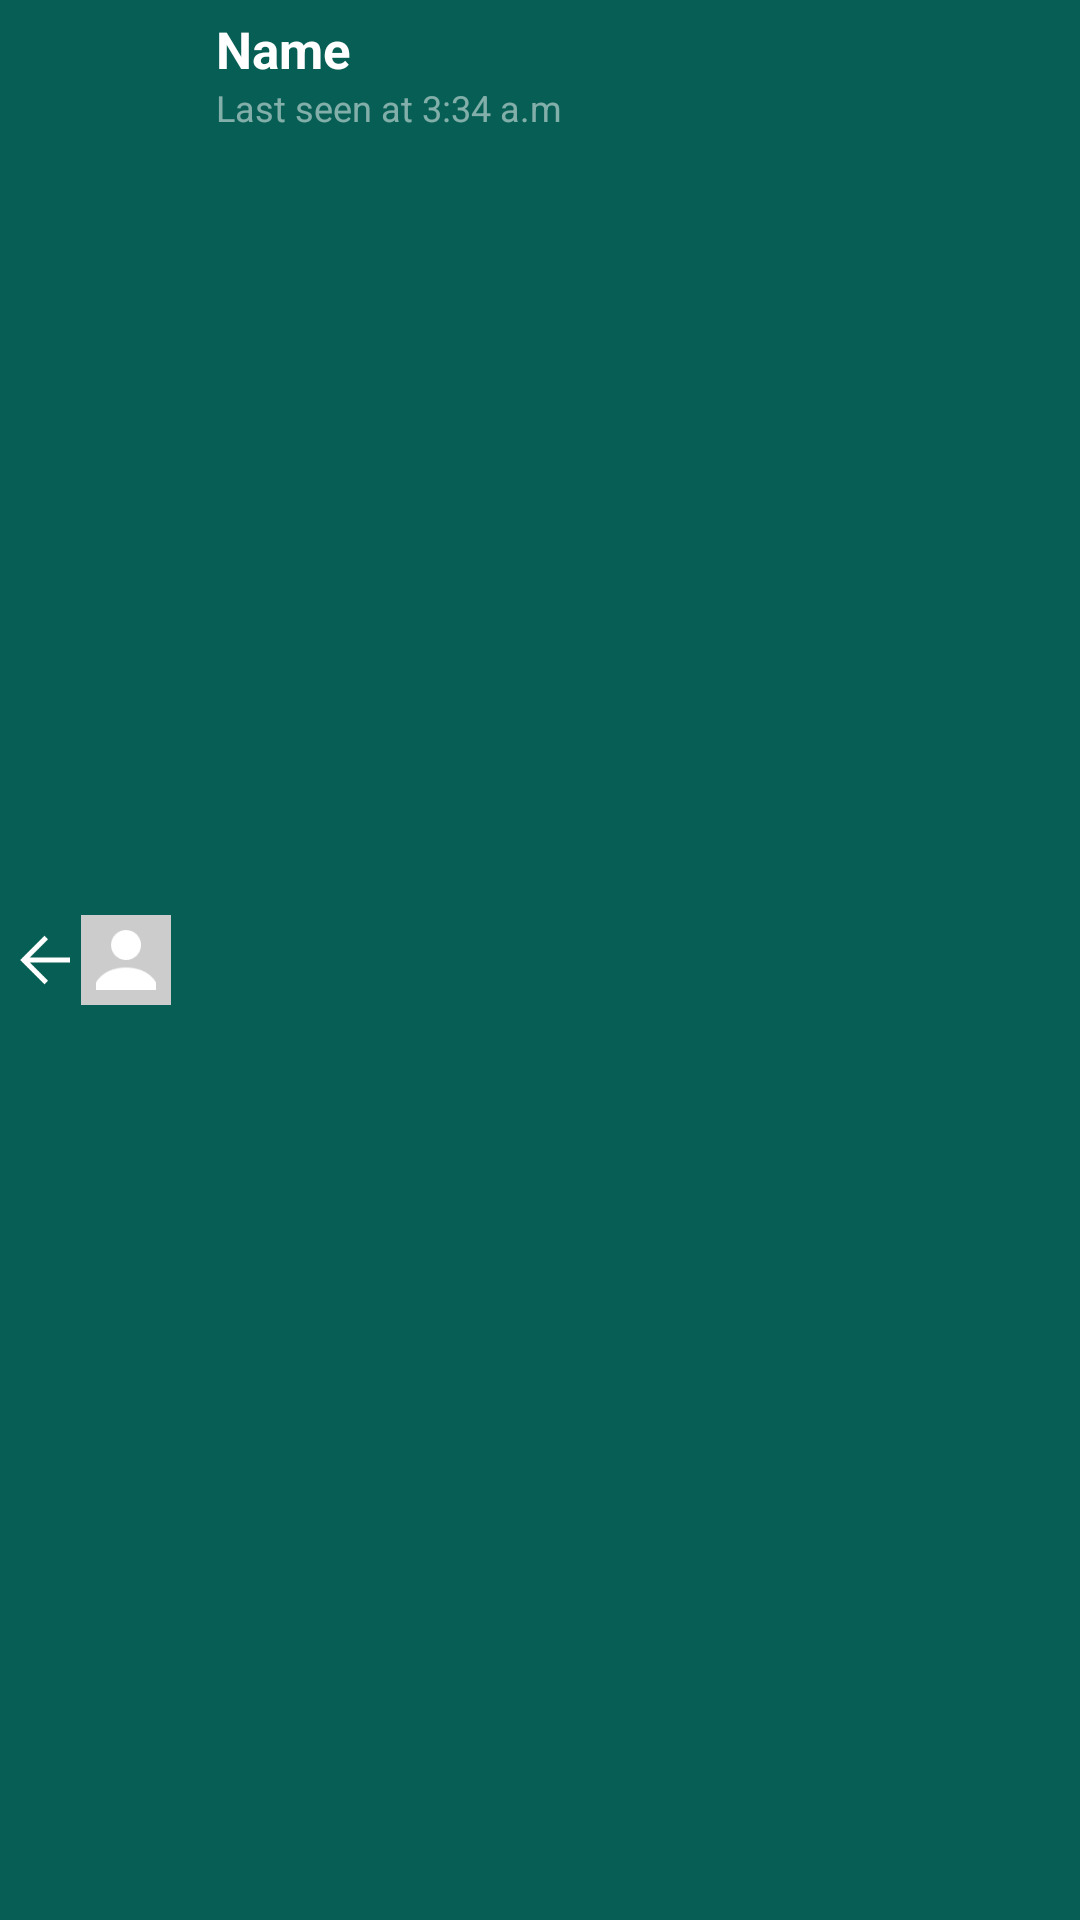

Icon click points for this 1080 x 1920 phone screenshot, format (x=x, y=y):
left arrow: (x=45, y=960)
